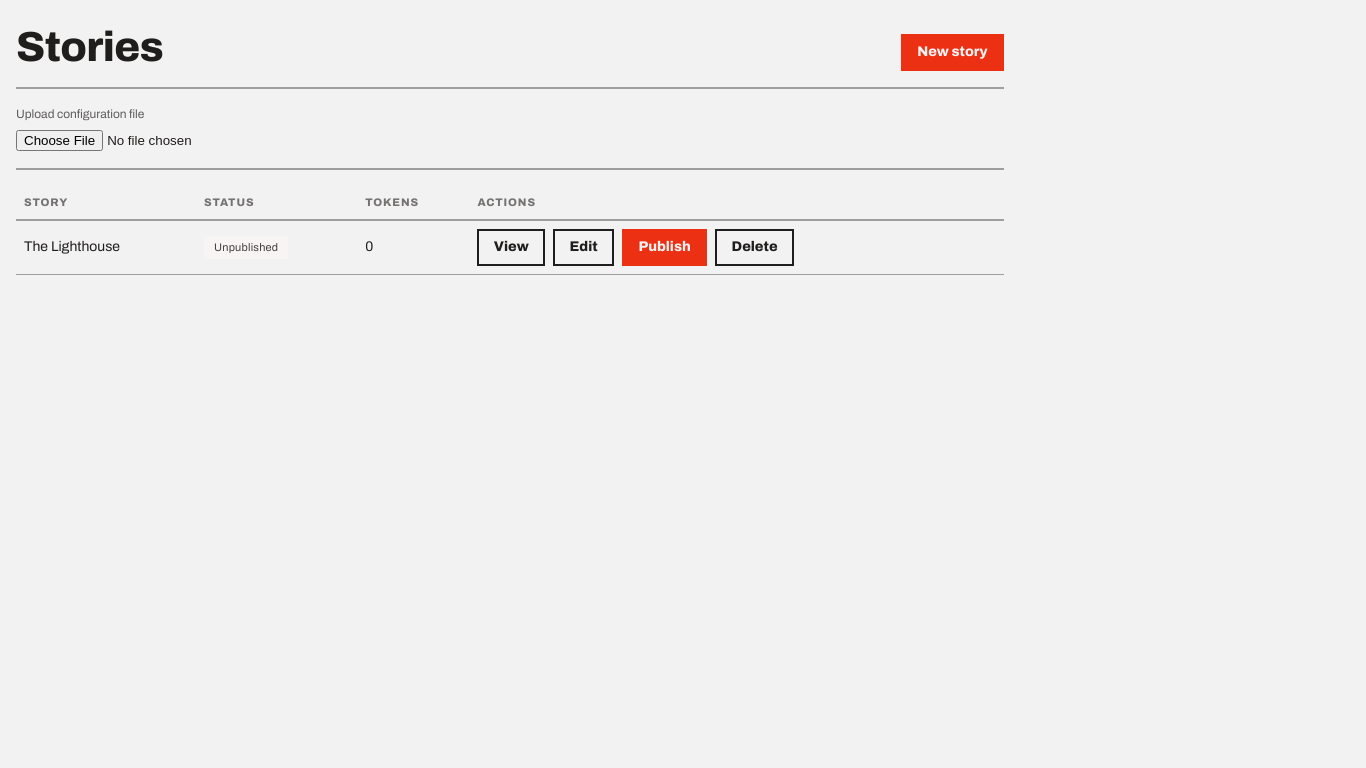
Test: Admin stories list publish/unpublish (FR-007, FR-010, FR-011, FR-013, FR-014, FR-016) › shows the FR-011 explanatory text and leaves the row unchanged on a 409
Click the button "Publish" at coordinates (665, 247), box [622,229,707,266]
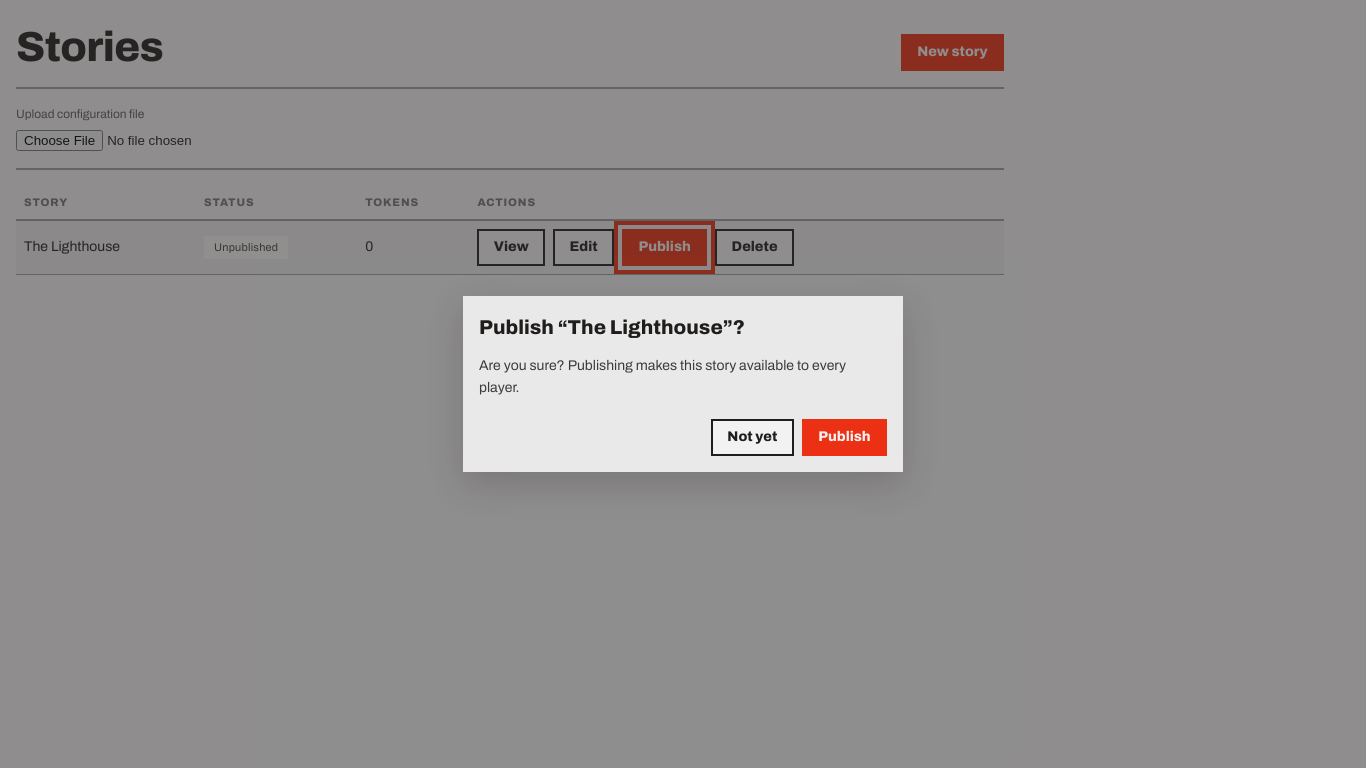
Click the button "Publish" below "Publish “" at coordinates (844, 437), box [802,419,887,456]
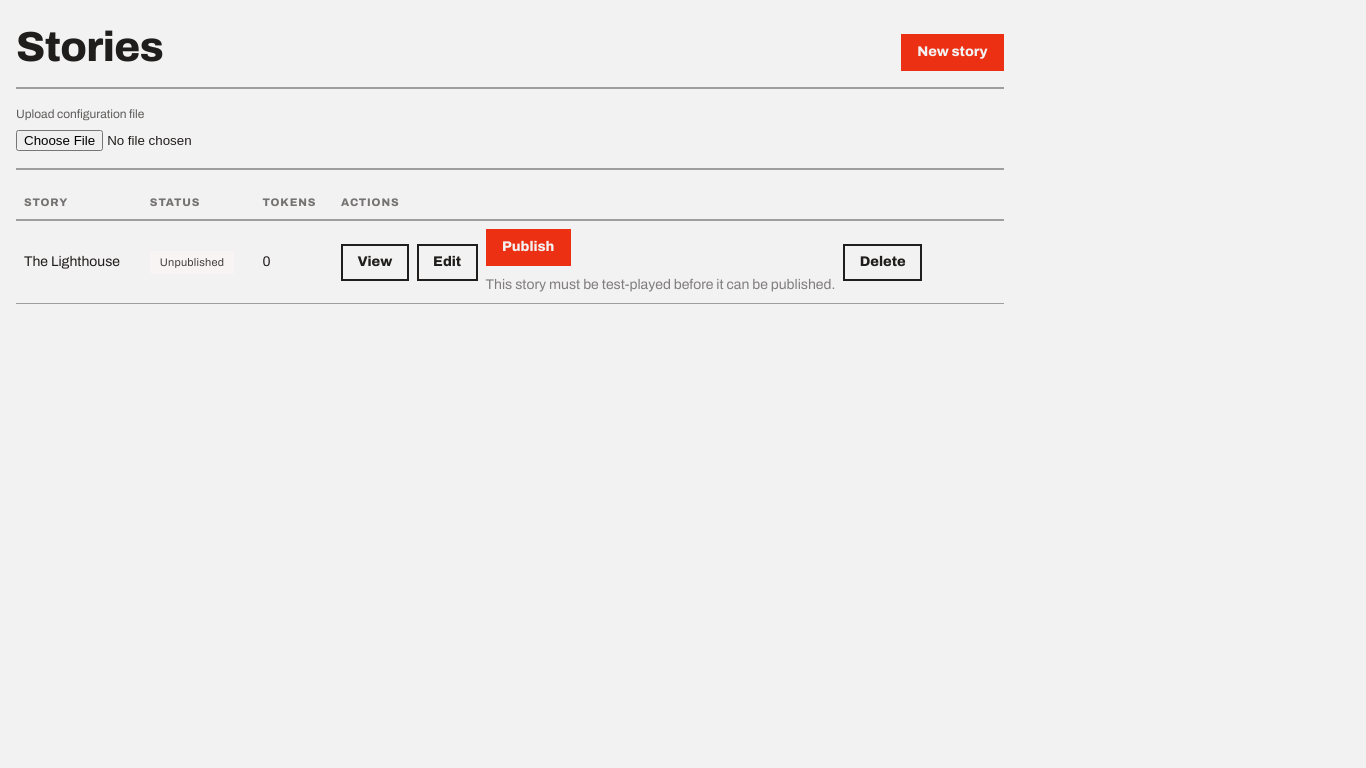
Expected: the text with class "tag" reads "Unpublished", [160,256,224,268]
Now the text "This story must be test-played before it can be published." is shown, box [486,274,835,295]
